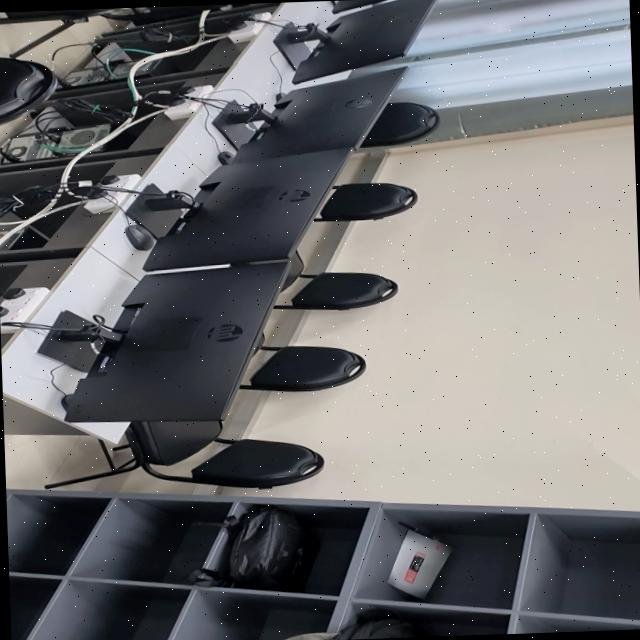Chair: (44, 420, 323, 488), (275, 250, 398, 309), (239, 345, 366, 391), (314, 182, 417, 220), (0, 56, 57, 123), (361, 101, 440, 147)
Cpu: (3, 124, 108, 160), (61, 57, 164, 85), (0, 226, 28, 246)
Monitor: (38, 259, 288, 421), (127, 147, 350, 270), (214, 67, 404, 162), (275, 0, 435, 83)
Mouse: (126, 221, 156, 249), (218, 150, 235, 164), (61, 393, 71, 410), (276, 91, 286, 102)
